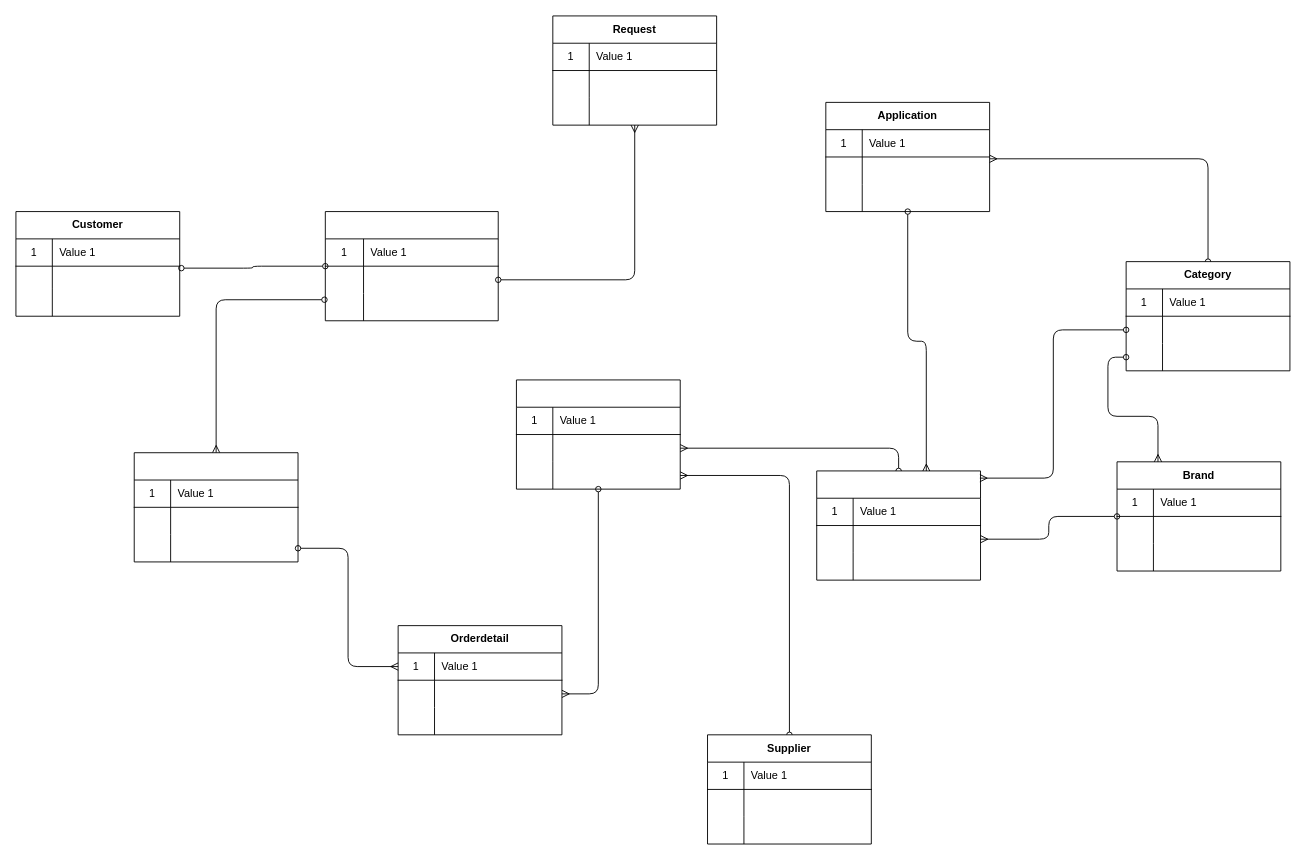
This 1306x860 diagram has some shape labels left out. The shapes that lost their labels are listed below. From the top down, each one's box as (x1, y1, x2, y2) in pixels, then its label:
(324, 211, 498, 321): User
(516, 379, 680, 489): Stock
(133, 452, 298, 562): Order
(816, 470, 981, 580): Product
